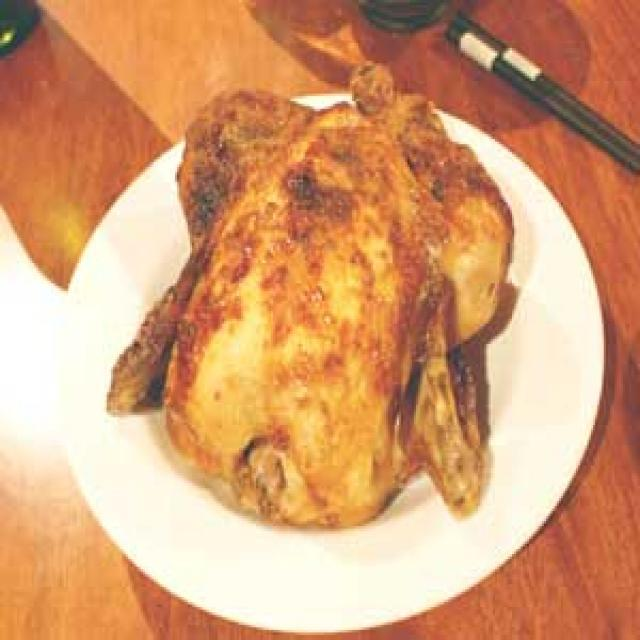Chicken roast: (147, 46, 509, 526)
